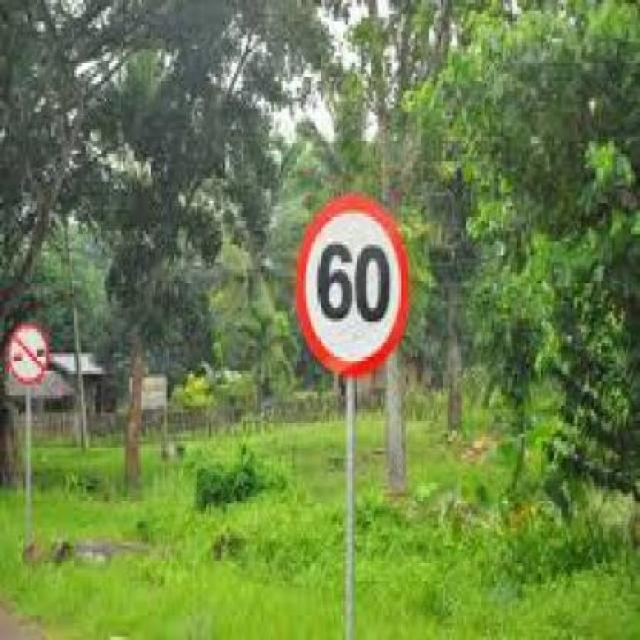forb_speed_over_60: (297, 196, 411, 382)
